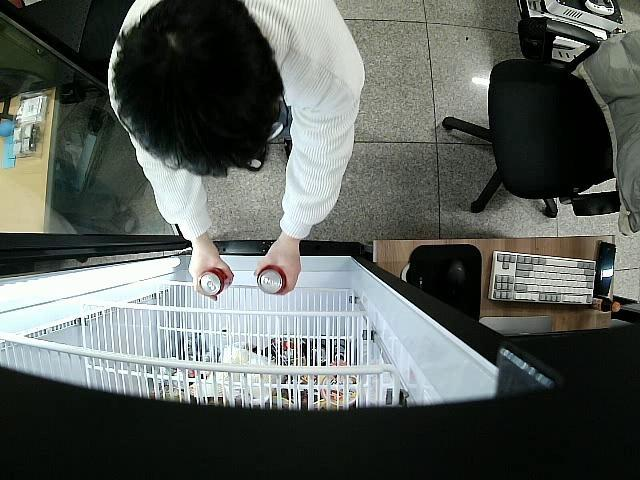11_cocaColaZero: (196, 266, 228, 298), (257, 263, 286, 294)
